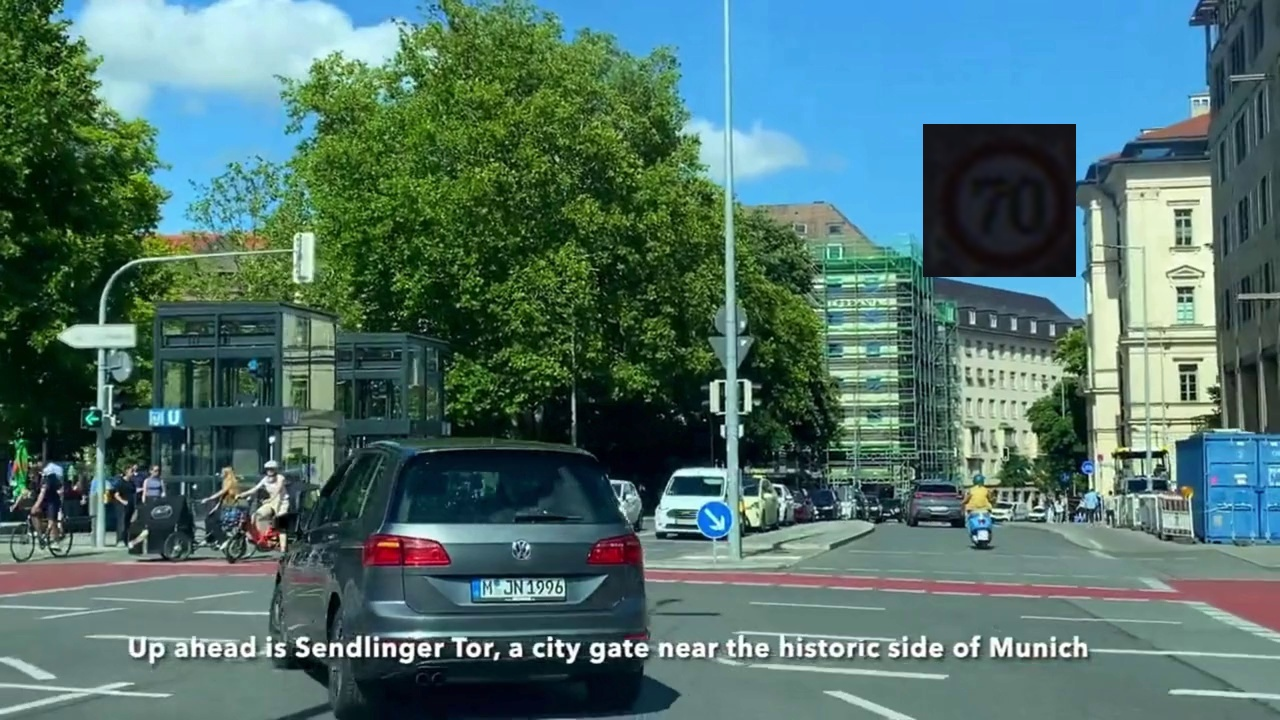Speed 70: (923, 124, 1076, 277)
